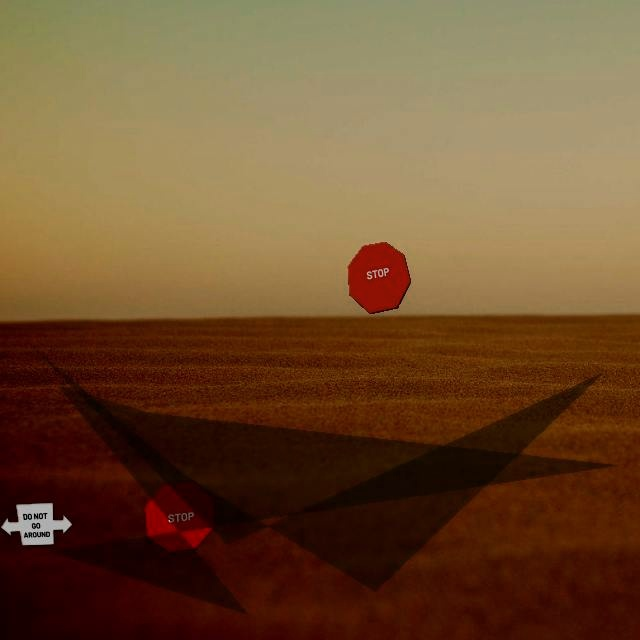DO_NOT_GO_AROUND: (0, 502, 73, 546)
STOP: (144, 480, 215, 553), (347, 241, 411, 314)
